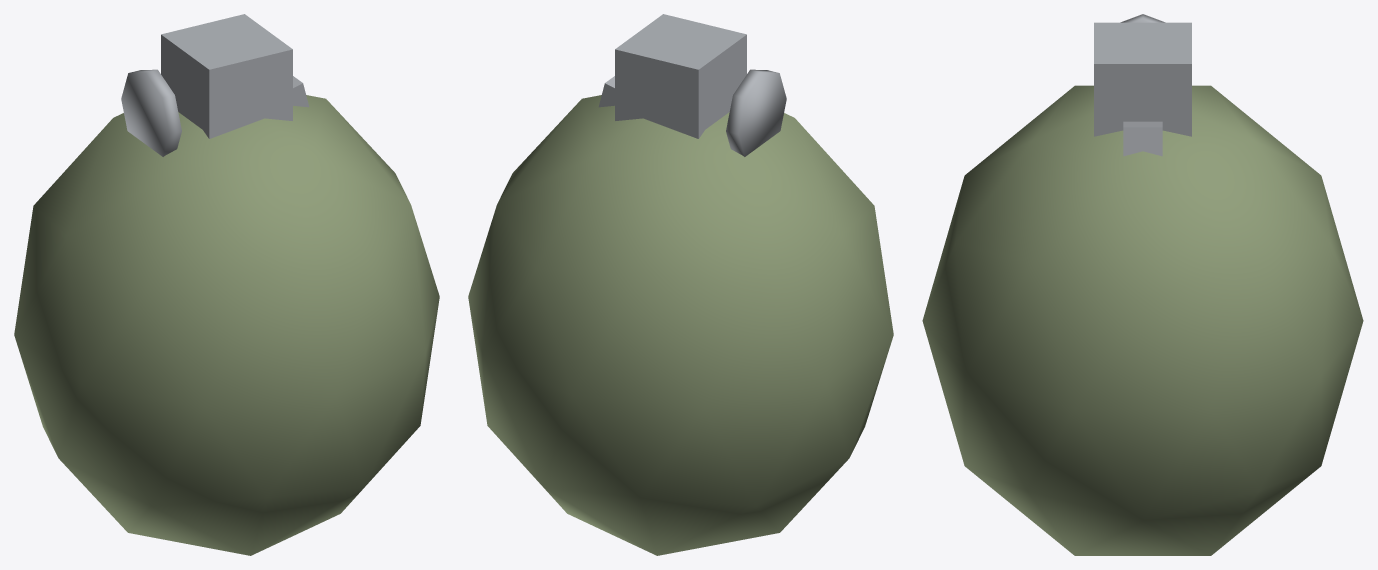
File: grenade_held.gltf
The picture shows the model from 3 angles, left to right: view 1: azimuth 30°, elevation 25°; view 2: azimuth 150°, elevation 25°; view 3: azimuth 270°, elevation 25°; orthographic projection.
Visible parts, largest first — view 1: grenade_held; view 2: grenade_held; view 3: grenade_held.
Boxes of the visible parts, x1,y1,x2,y2 form: grenade_held: (14, 14, 439, 555); grenade_held: (468, 14, 893, 555); grenade_held: (922, 14, 1363, 555).
Bounding box in the file's own units: 0.0856 × 0.1143 × 0.09.
